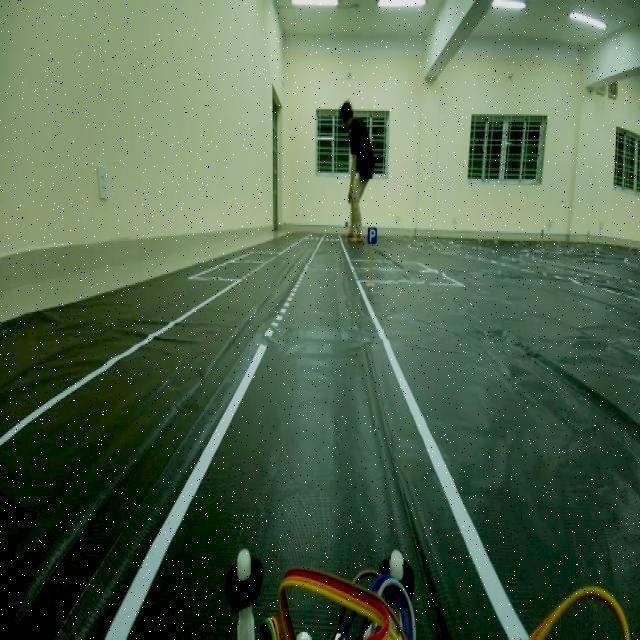parking: (364, 217, 382, 253)
